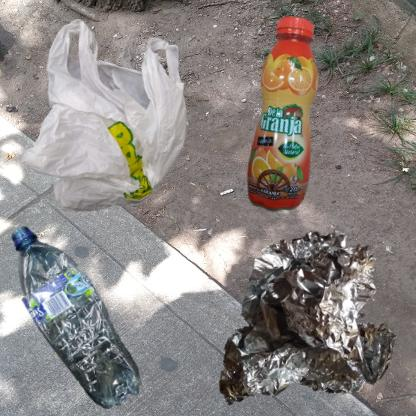aluminio: (213, 213, 416, 416)
bolsa: (10, 10, 222, 252)
botella: (213, 10, 396, 272), (10, 213, 152, 416)
